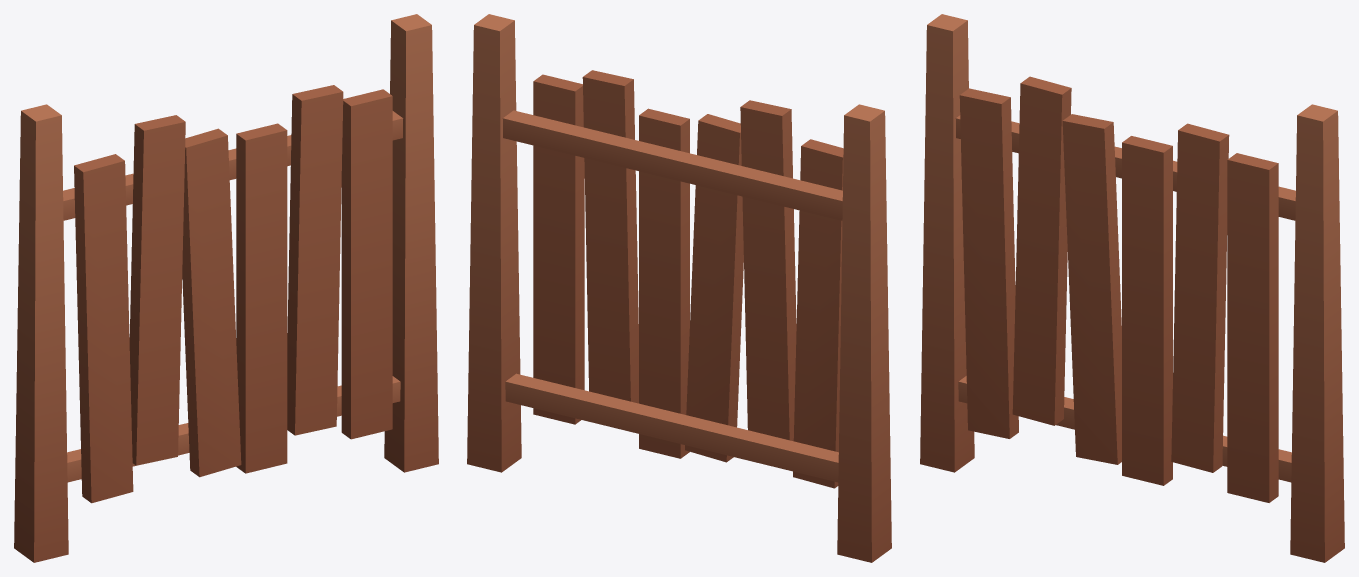
The model's file is fence-fortified.glb.
3 renders of one model, left to right at view 1: azimuth 30°, elevation 25°; view 2: azimuth 150°, elevation 25°; view 3: azimuth 330°, elevation 25°, orthographic.
Parts seen in each view (by area): view 1: fence-fortified; view 2: fence-fortified; view 3: fence-fortified.
Part boxes in pixels (left/top/right/bottom): fence-fortified: left=14, top=14, right=438, bottom=562; fence-fortified: left=467, top=14, right=891, bottom=562; fence-fortified: left=920, top=14, right=1344, bottom=562.
Size of the model in its own units: 0.5 by 0.5175 by 0.053.
